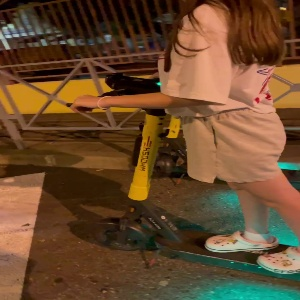human on a scooter: (66, 1, 300, 282)
